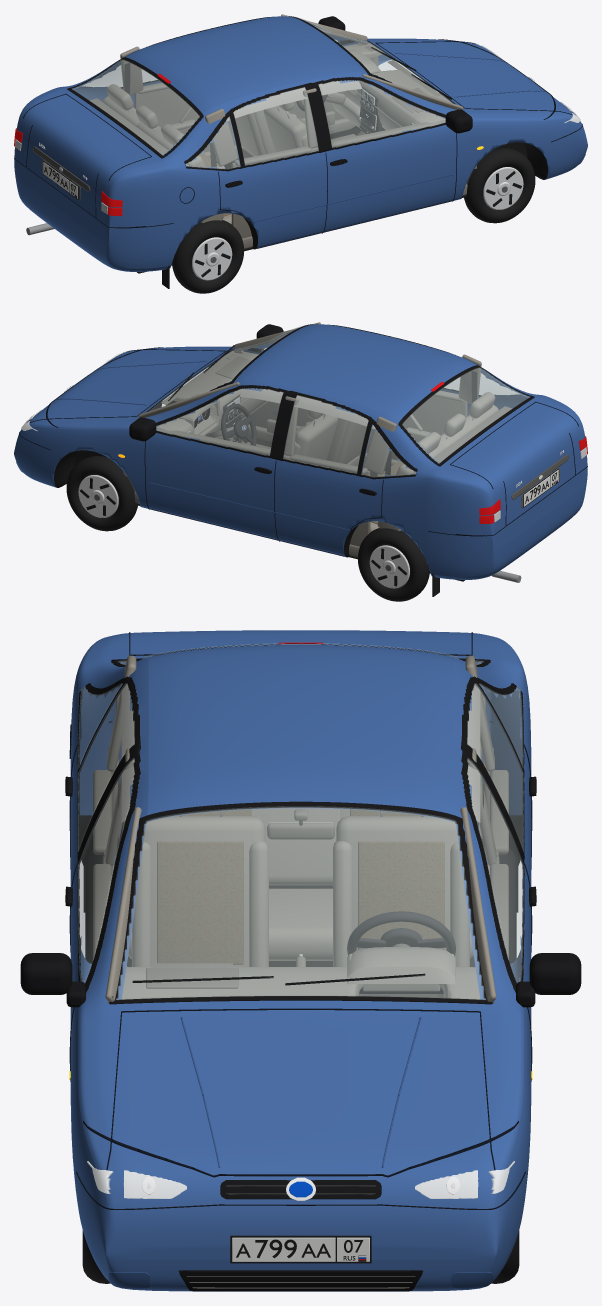
File: lada-kalina.glb
3 views of the same model, one above another, from view 1: azimuth 30°, elevation 25°; view 2: azimuth 150°, elevation 25°; view 3: azimuth 270°, elevation 25° (orthographic). The views are drawn at different scales.
Visible parts, largest first — view 1: Body_Shell, Rear_Screen, Glass_FrontDoor_-1, Glass_RearDoor_-1, Window_Frame_-1, Wheel_FR_Tyre, Wheel_RR_Tyre, Int_Dashboard, Windscreen, Int_RearDoor_1_Card, Glass_Quarter_-1, Int_Seat_Pass_Back (+23 smaller); view 2: Body_Shell, Rear_Screen, Glass_FrontDoor_1, Glass_RearDoor_1, Window_Frame_1, Wheel_FL_Tyre, Wheel_RL_Tyre, Int_Dashboard, Windscreen, Int_RearDoor_-1_Card, Glass_Quarter_1, Int_Seat_Driver_Back (+25 smaller); view 3: Body_Shell, Windscreen, Int_Seat_Pass_Back_Insert, Int_Seat_Driver_Back_Insert, Int_Dashboard, Windscreen_Frame, Glass_FrontDoor_1, Glass_FrontDoor_-1, Lower_Intake, Int_Rear_Cushion, Int_Seat_Pass_Back, Int_Rear_Back_1 (+36 smaller).
Part boxes in pixels (x1=…): Body_Shell: x1=14, y1=16, x2=587, y2=271; Rear_Screen: x1=72, y1=59, x2=199, y2=155; Glass_FrontDoor_-1: x1=318, y1=80, x2=445, y2=147; Glass_RearDoor_-1: x1=233, y1=87, x2=318, y2=165; Window_Frame_-1: x1=184, y1=77, x2=445, y2=171; Wheel_FR_Tyre: x1=464, y1=148, x2=535, y2=223; Wheel_RR_Tyre: x1=172, y1=220, x2=244, y2=293; Int_Dashboard: x1=343, y1=43, x2=476, y2=168; Windscreen: x1=296, y1=17, x2=453, y2=103; Int_RearDoor_1_Card: x1=134, y1=88, x2=210, y2=152; Glass_Quarter_-1: x1=185, y1=116, x2=240, y2=169; Int_Seat_Pass_Back: x1=263, y1=106, x2=306, y2=151; Body_Shell: x1=14, y1=324, x2=587, y2=579; Rear_Screen: x1=402, y1=367, x2=529, y2=463; Glass_FrontDoor_1: x1=156, y1=388, x2=283, y2=455; Glass_RearDoor_1: x1=283, y1=395, x2=368, y2=473; Window_Frame_1: x1=156, y1=385, x2=417, y2=479; Wheel_FL_Tyre: x1=66, y1=456, x2=137, y2=531; Wheel_RL_Tyre: x1=357, y1=528, x2=429, y2=601; Int_Dashboard: x1=123, y1=351, x2=266, y2=476; Windscreen: x1=148, y1=325, x2=305, y2=411; Int_RearDoor_-1_Card: x1=391, y1=396, x2=467, y2=460; Glass_Quarter_1: x1=361, y1=424, x2=416, y2=477; Int_Seat_Driver_Back: x1=295, y1=414, x2=338, y2=459; Body_Shell: x1=70, y1=630, x2=531, y2=1291; Windscreen: x1=116, y1=806, x2=485, y2=999; Int_Seat_Pass_Back_Insert: x1=157, y1=841, x2=243, y2=964; Int_Seat_Driver_Back_Insert: x1=358, y1=841, x2=444, y2=949; Int_Dashboard: x1=122, y1=967, x2=479, y2=999; Windscreen_Frame: x1=109, y1=801, x2=492, y2=1004; Glass_FrontDoor_1: x1=467, y1=758, x2=523, y2=982; Glass_FrontDoor_-1: x1=78, y1=758, x2=134, y2=982; Lower_Intake: x1=178, y1=1270, x2=423, y2=1291; Int_Rear_Cushion: x1=128, y1=888, x2=473, y2=960; Int_Seat_Pass_Back: x1=143, y1=816, x2=265, y2=966; Int_Rear_Back_1: x1=124, y1=808, x2=340, y2=885.
Bounding box in the file's own units: 4.12 × 1.5 × 2.06.
42 materials, 2 textured.
